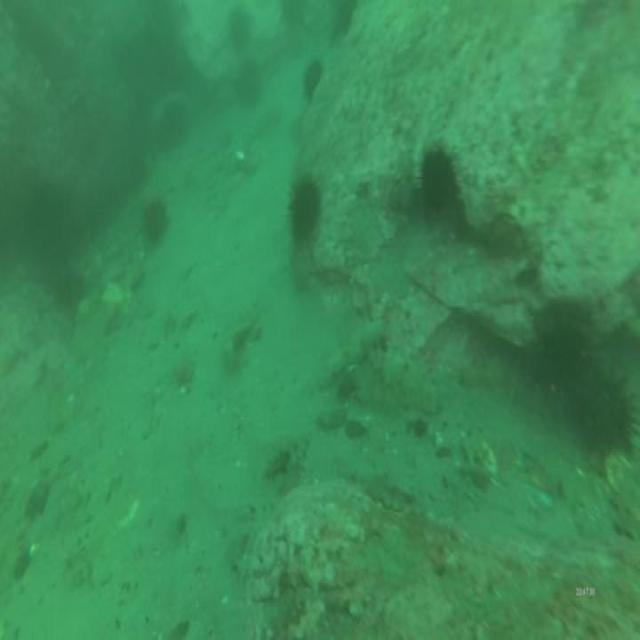echinus: (568, 354, 640, 465), (415, 138, 463, 222), (284, 172, 324, 247), (50, 267, 90, 315), (138, 191, 170, 251), (156, 95, 193, 145), (224, 3, 254, 57), (233, 64, 264, 115), (300, 54, 326, 104), (329, 0, 357, 41), (278, 0, 308, 30)
holothurian: (318, 310, 390, 390), (370, 345, 446, 417), (508, 435, 566, 501), (364, 465, 419, 518), (457, 346, 516, 395)
